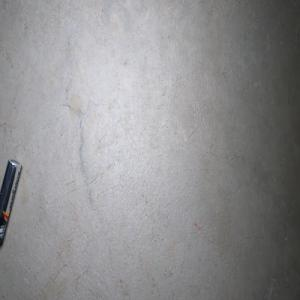Battery: (0, 158, 21, 246)
